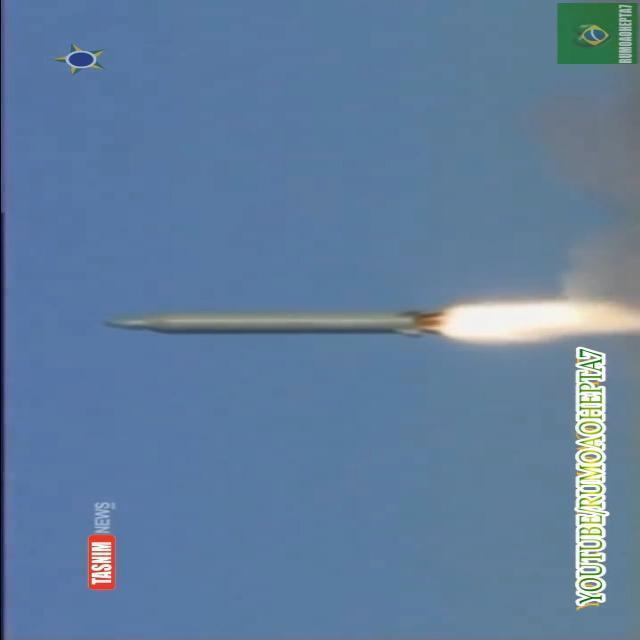missile: (105, 307, 448, 346)
